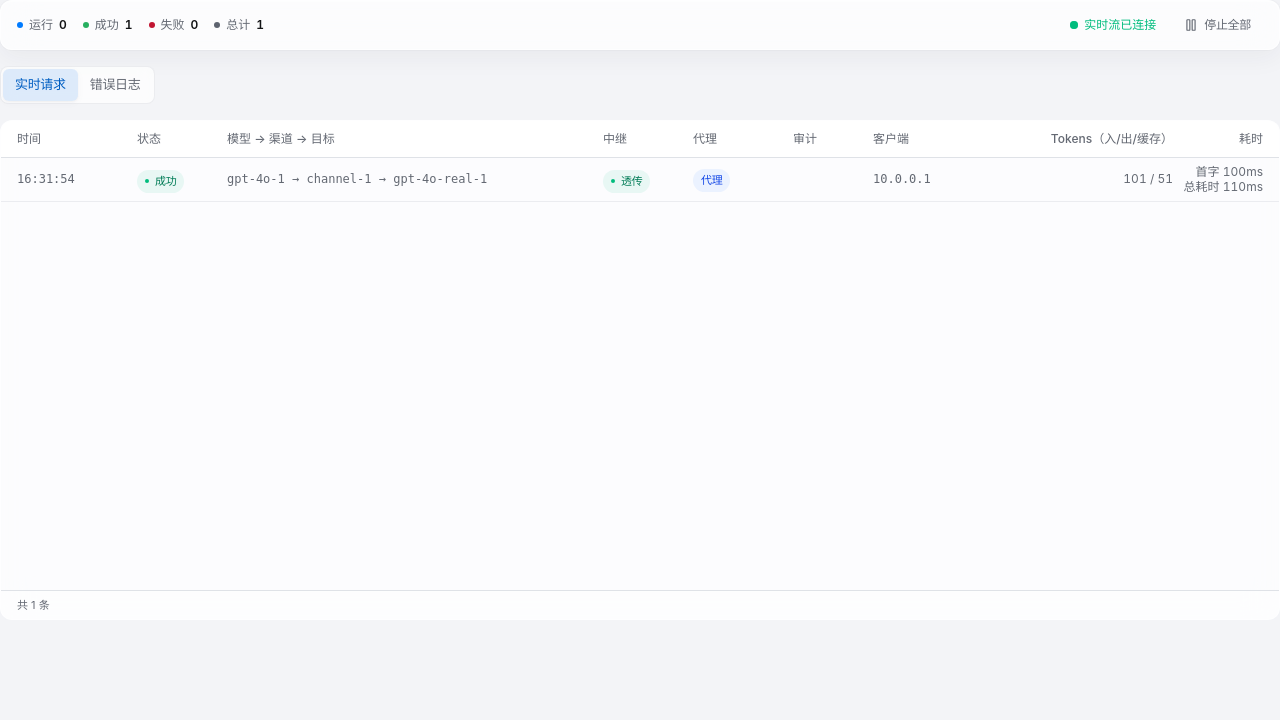
it: <LogsPage /> 追踪 Sheet 诊断区块与时间线 › 诊断区块：出口代理、协议链路、透传模式、估算标记一眼可读
Click the row named "查看请求 #1 追踪": (640, 180) [1,158,1279,202]
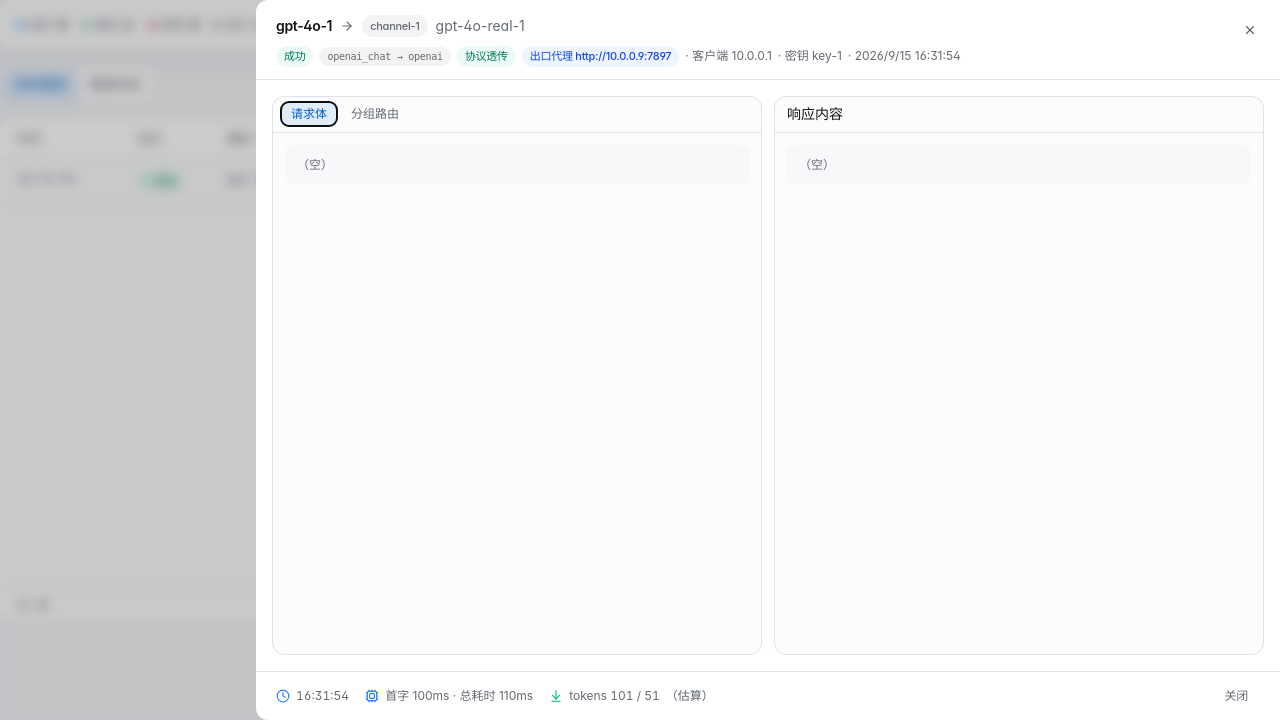
expect the text "成功" is shown: met, box [276,46,314,67]
expect the text "首字 100ms · 总耗时 110ms" is shown: met, box [385,688,533,704]
expect the text "tokens 101 / 51" is shown: met, box [569,688,660,704]
